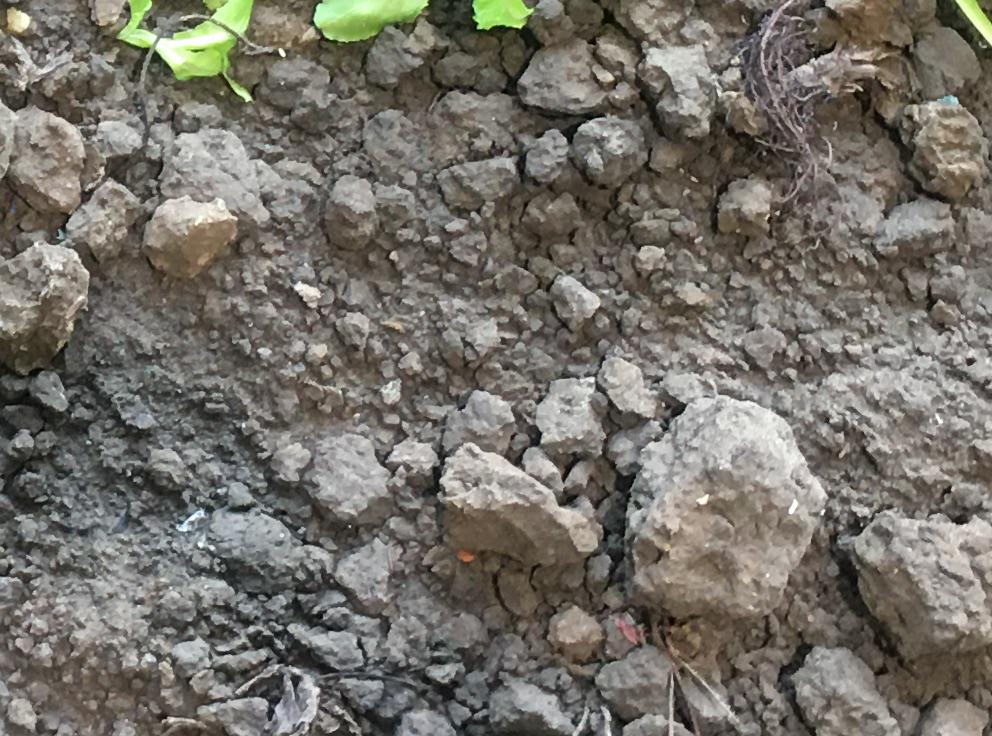block: (625, 389, 815, 626), (850, 512, 992, 674), (443, 443, 609, 573), (1, 244, 83, 369)
